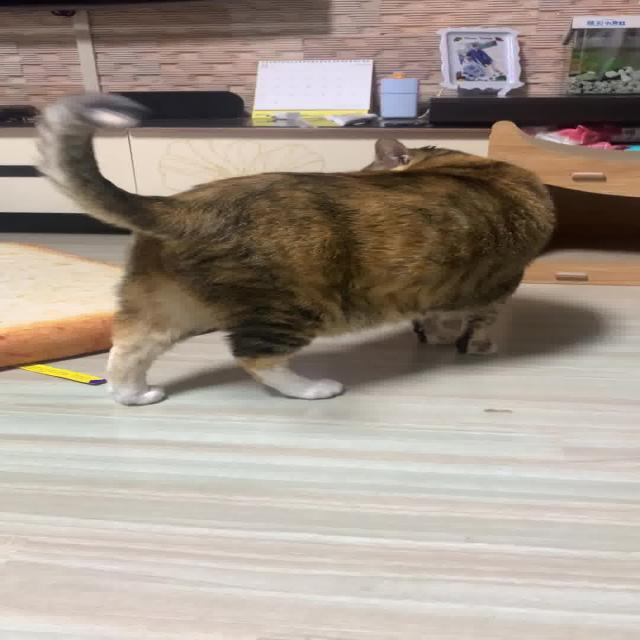cat: (27, 88, 567, 410)
